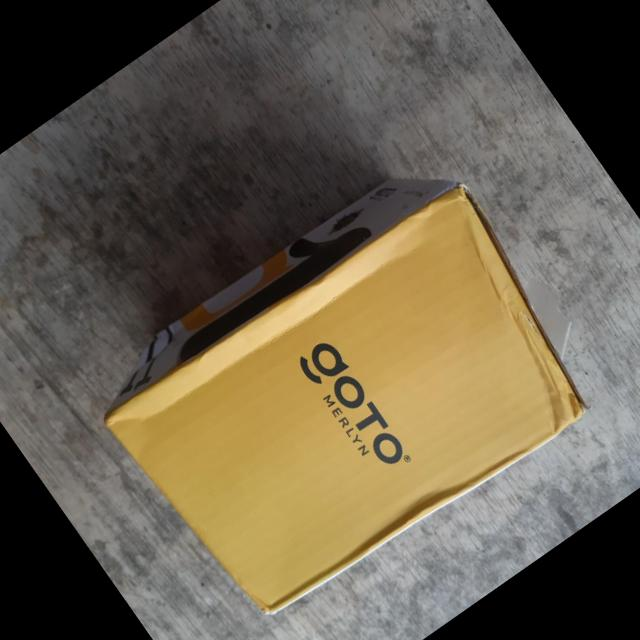Kardus: (78, 137, 616, 640)
